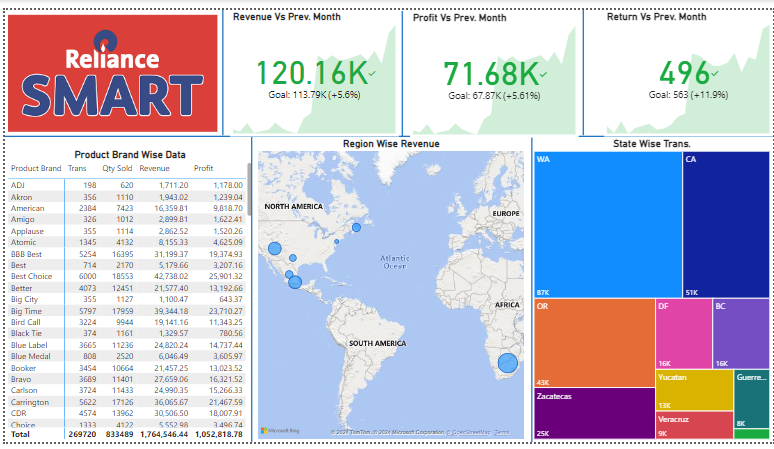

The page's visual inventory and layout, read from the dashboard file:
{"tool":"powerbi","page":{"name":"Primary Report","canvas":[1280,720],"ordinal":0},"visuals":[{"type":"image","box":[0,0,359.2,212],"z":0},{"type":"shape","box":[0,194.1,1280,34.4],"z":1},{"type":"pivotTable","title":"Product Brand Wise Data","fields":{"Rows":["d_Products.product_brand"],"Values":["Measures (2).M_Total_Transactions","Measures (2).M_Quantity_Sold","Measures (2).M_Total_Revenue","Measures (2).M_Total_Profit"]},"box":[0,229.8,417,490],"z":2},{"type":"shape","box":[404.6,212,12.4,507.9],"z":3},{"type":"map","title":"Region Wise Revenue","fields":{"Category":["d_Regions.sales_region"],"Size":["Measures (2).M_Total_Revenue"]},"box":[417.1,211.4,454.3,508.6],"z":4},{"type":"treemap","title":"State Wise Trans.","fields":{"Group":["d_Stores.store_state"],"Values":["Measures (2).M_Total_Transactions"]},"box":[877.1,211.4,402.9,508.6],"z":5},{"type":"shape","box":[871.4,211.4,12.9,508.6],"z":6},{"type":"kpi","title":"Revenue Vs Prev. Month","fields":{"Indicator":["Measures (2).M_Total_Revenue"],"TrendLine":["d_Calendar.Start of Month"],"Goal":["Measures (2).M_Previous_Month_Revenue"]},"box":[374.3,0,281.4,211.4],"z":7},{"type":"shape","box":[351.4,0,22.9,208.6],"z":8},{"type":"shape","box":[655.7,1.4,14.3,208.6],"z":9},{"type":"kpi","title":"Profit Vs Prev. Month","fields":{"TrendLine":["d_Calendar.Start of Month"],"Goal":["Measures (2).M_Previous_Month_Profit"],"Indicator":["Measures (2).M_Total_Profit"]},"box":[675.7,1.4,281.4,211.4],"z":10},{"type":"kpi","title":"Return Vs Prev. Month","fields":{"TrendLine":["d_Calendar.Start of Month"],"Goal":["Measures (2).M_Previous_Month_Returns"],"Indicator":["Measures (2).M_Total_Returns"]},"box":[998.6,0,281.4,211.4],"z":11},{"type":"shape","box":[957.1,0,14.3,208.6],"z":12}]}

Visuals, with their boxes in screenshot pixels (x1, y1, x2, y2):
image: bbox(4, 6, 218, 132)
shape: bbox(4, 122, 767, 142)
"Product Brand Wise Data" pivotTable: bbox(4, 143, 253, 435)
shape: bbox(245, 132, 253, 435)
"Region Wise Revenue" map: bbox(253, 132, 524, 435)
"State Wise Trans." treemap: bbox(527, 132, 767, 435)
shape: bbox(524, 132, 531, 435)
"Revenue Vs Prev. Month" kpi: bbox(227, 6, 395, 132)
shape: bbox(214, 6, 227, 130)
shape: bbox(395, 7, 404, 131)
"Profit Vs Prev. Month" kpi: bbox(407, 7, 575, 133)
"Return Vs Prev. Month" kpi: bbox(600, 6, 767, 132)
shape: bbox(575, 6, 583, 130)
